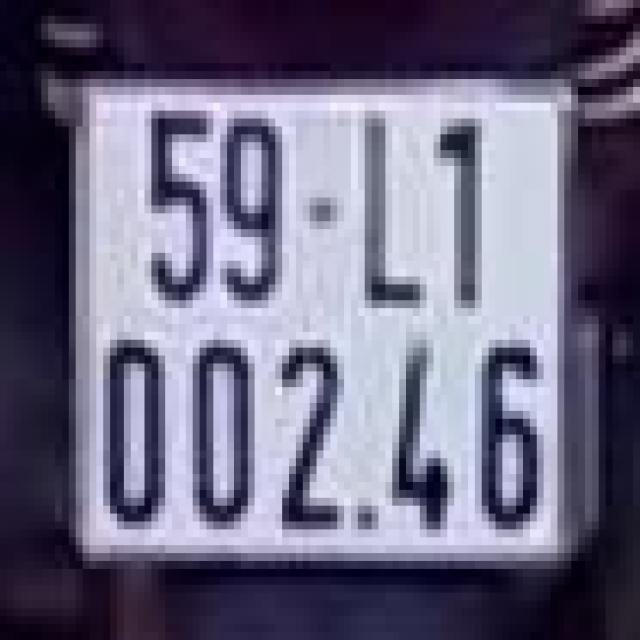0: (182, 332, 265, 537), (93, 328, 169, 533)
1: (437, 103, 506, 324)
2: (268, 340, 351, 537)
4: (385, 332, 461, 545)
5: (131, 99, 220, 320)
6: (475, 332, 557, 553)
9: (220, 111, 296, 308)
L: (344, 103, 427, 316)
